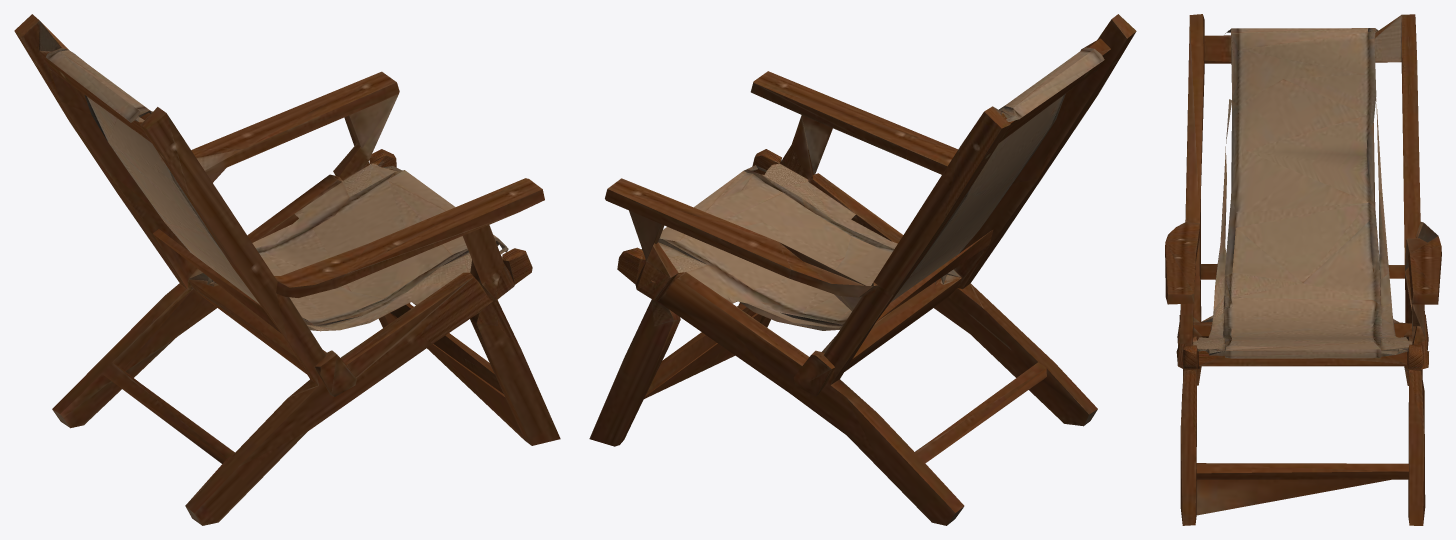
Rendered from mj-deck-chair.glb.
3 views of the same model, side by side, from view 1: azimuth 30°, elevation 25°; view 2: azimuth 150°, elevation 25°; view 3: azimuth 270°, elevation 25° (orthographic). The views are drawn at different scales.
Parts seen in each view (by area): view 1: mj-deck-chair; view 2: mj-deck-chair; view 3: mj-deck-chair.
Boxes of the visible parts, left/top/right/bottom form: mj-deck-chair: left=14, top=14, right=560, bottom=525; mj-deck-chair: left=589, top=14, right=1136, bottom=525; mj-deck-chair: left=1165, top=14, right=1441, bottom=525.
Size of the model in its own units: 0.9181 by 0.9 by 0.6396.
1 material, 1 textured.
